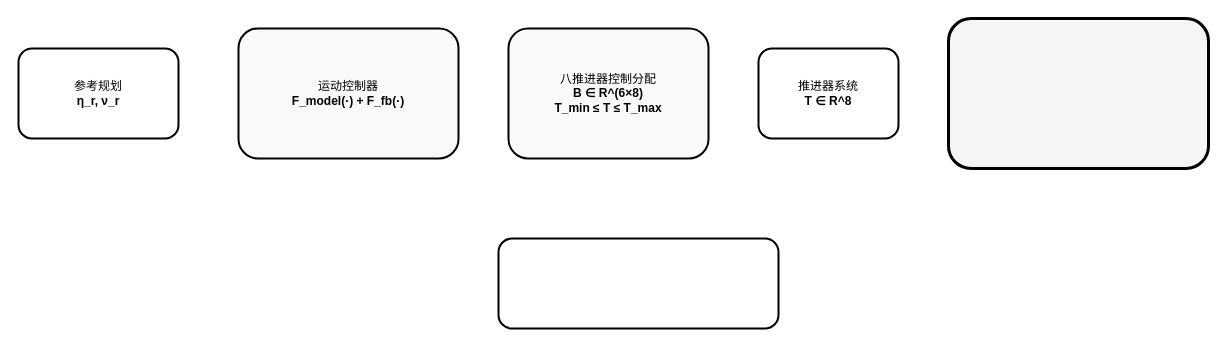
The diagram is 1227 pixels wide and 347 high, and some of its shapes have lost their labels. The shapes that lost their labels are listed below. From the top down, each one's centre as x and y in pixels, then its label:
the point at 1078,93: 水下航行器六自由度动力学与运动学 M ν_dot + C(ν)ν + D(ν)ν + g(η) = τ + τ_d η_dot = J(η)ν
the point at 638,283: 导航传感与EKF2状态估计 η_hat, ν_hat
